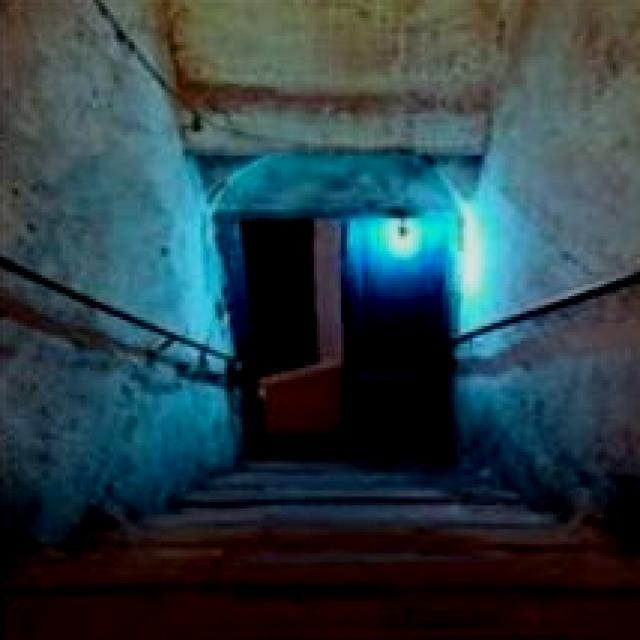downstair: (100, 474, 536, 632)
